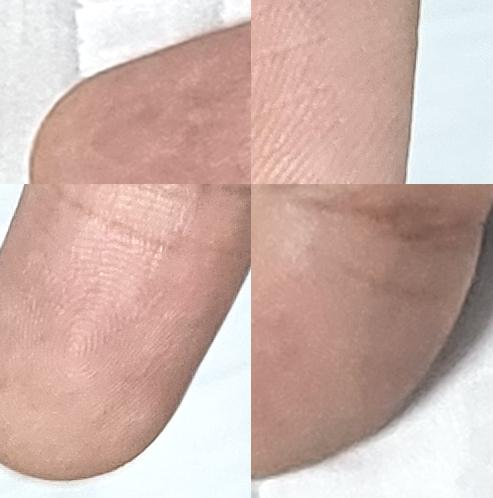Fingerprints: (0, 184, 251, 483), (251, 209, 483, 482), (30, 23, 251, 184), (251, 0, 420, 184)
